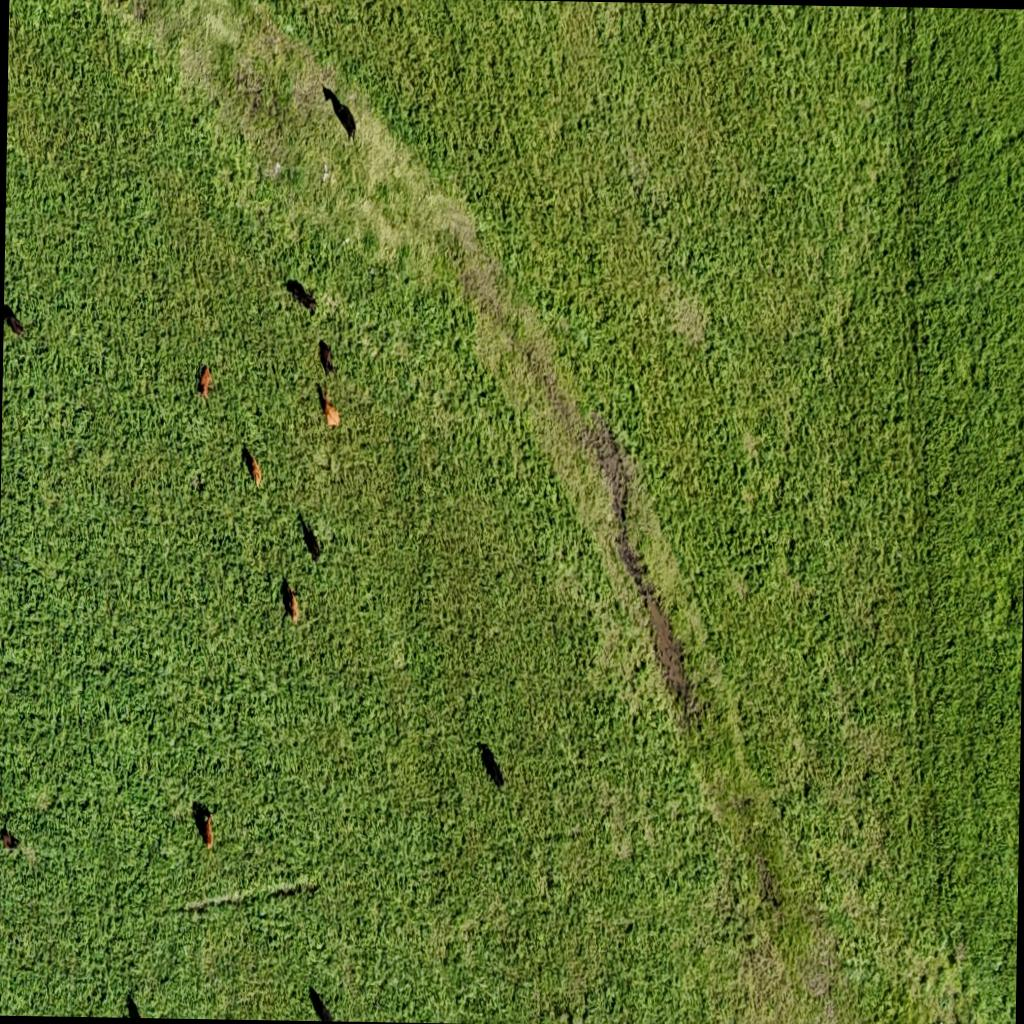cow: (476, 742, 505, 789), (192, 798, 216, 852), (317, 380, 341, 430), (286, 280, 318, 317), (298, 512, 320, 564), (306, 986, 336, 1020), (241, 443, 262, 488), (334, 99, 356, 140), (4, 301, 27, 340), (280, 578, 298, 626), (317, 339, 337, 379), (196, 364, 212, 401), (0, 824, 20, 851), (124, 990, 142, 1018)
